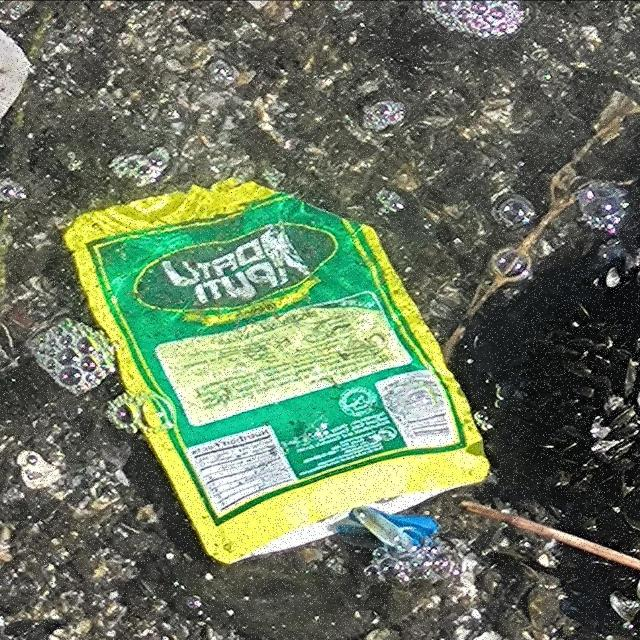plastic_waste: (63, 177, 494, 568)
